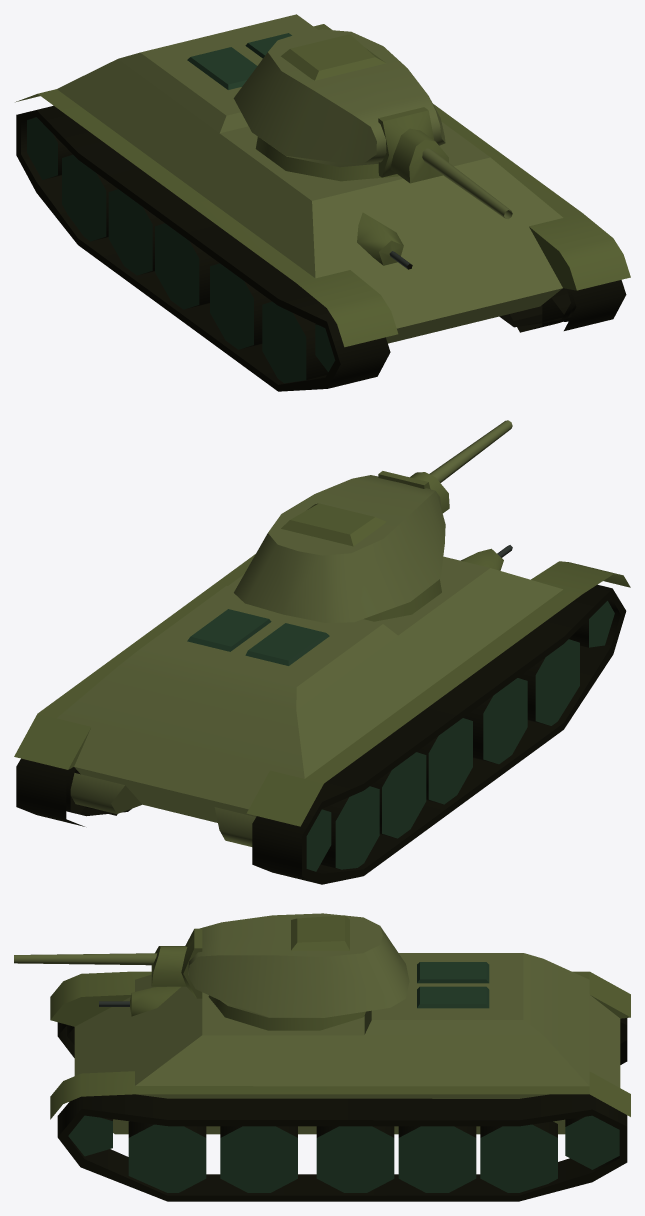
File: LPTank3.fbx
3 renders of one model, top to bottom at view 1: azimuth 30°, elevation 25°; view 2: azimuth 150°, elevation 25°; view 3: azimuth 270°, elevation 25°, orthographic. The views are drawn at different scales.
Parts seen in each view (by area): view 1: Body, Turret; view 2: Body, Turret; view 3: Body, Turret.
Boxes of the visible parts, left/top/right/bottom form: Body: left=15, top=14, right=630, bottom=391; Turret: left=233, top=29, right=512, bottom=219; Body: left=14, top=545, right=630, bottom=884; Turret: left=234, top=420, right=512, bottom=622; Body: left=50, top=953, right=630, bottom=1201; Turret: left=14, top=913, right=409, bottom=1030.
Bounding box in the file's own units: 234 × 188 × 496.
